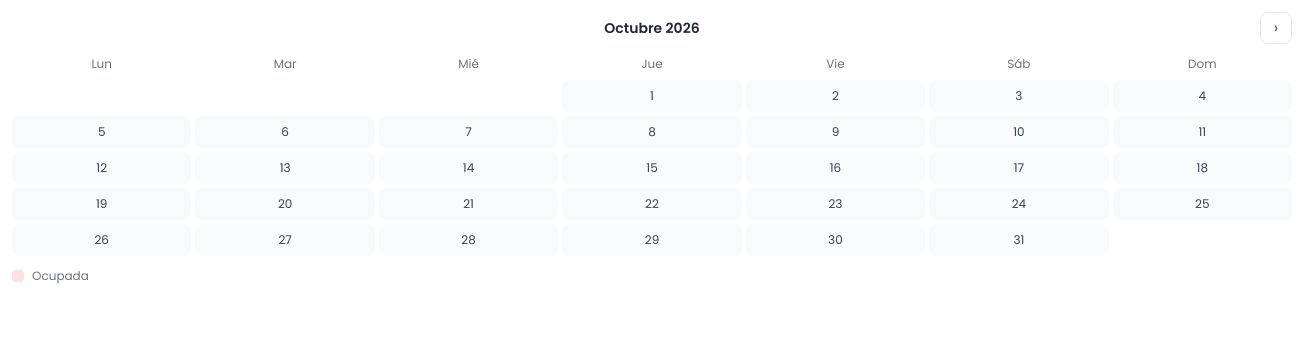
Scenario: AvailabilityCalendar month navigation (HUC-03 S2, RB-4) › marks a range two months ahead after navigating twice, and not one month ahead
Click the button named "Mes siguiente".
click(1276, 28)  # box [1260, 12, 1292, 44]
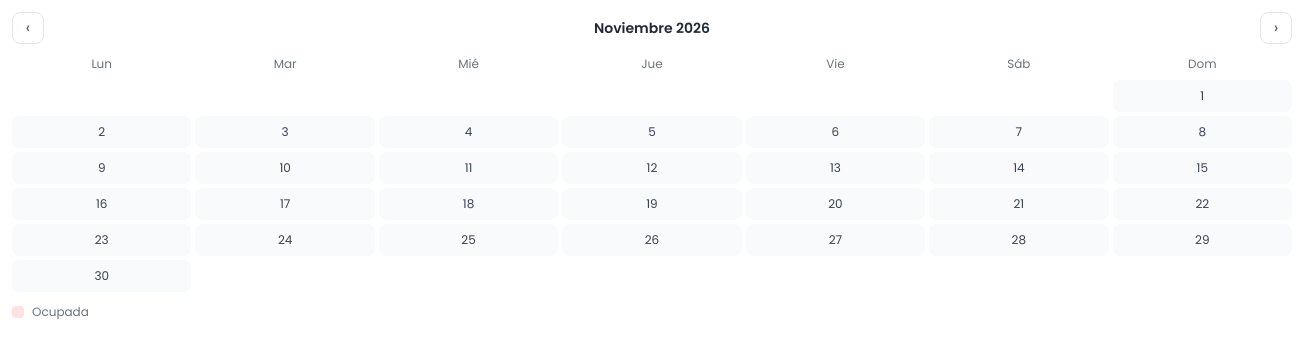
Check: the button "20" is enabled, box [746, 188, 925, 220]
Click the button named "Mes siguiente".
click(1276, 28)  # box [1260, 12, 1292, 44]
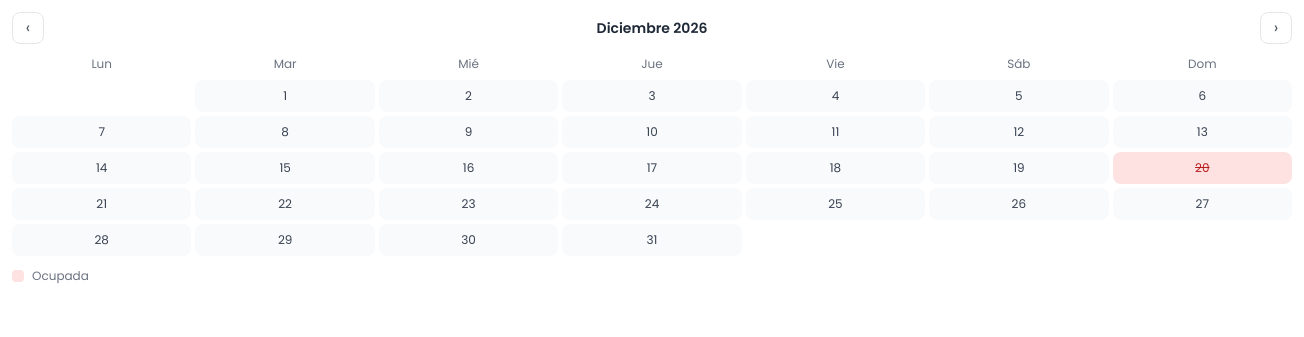
Check: the button "20" is disabled, box [1113, 152, 1292, 184]
